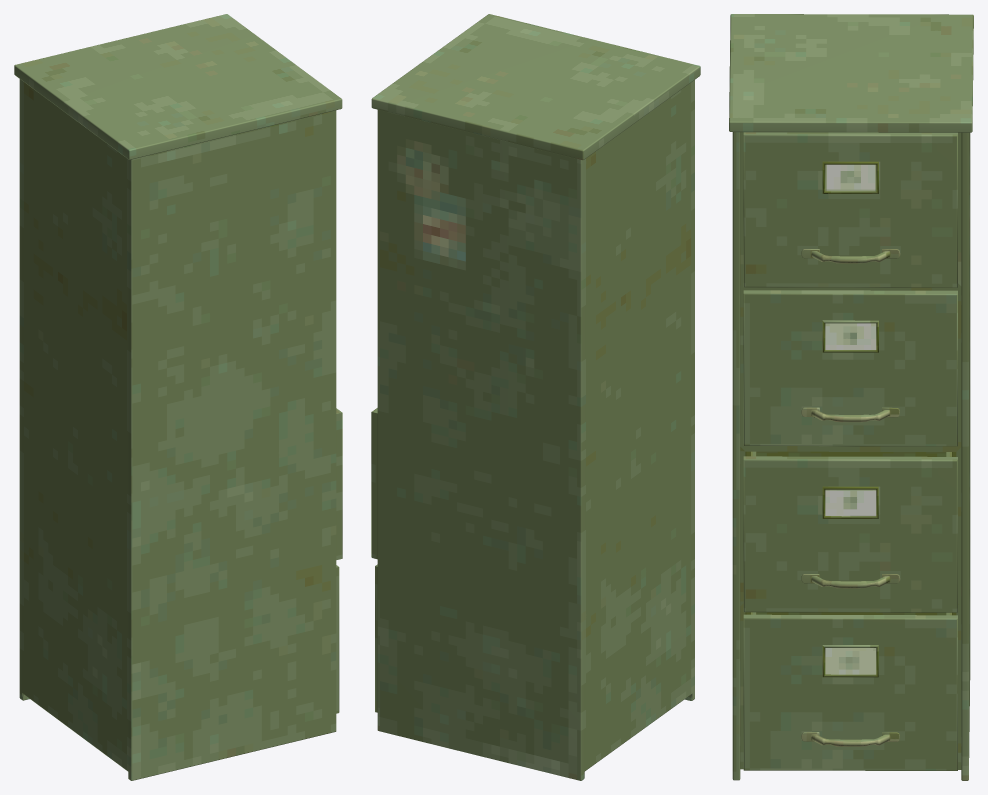
File: gabinete.glb
The picture shows the model from 3 angles, left to right: view 1: azimuth 30°, elevation 25°; view 2: azimuth 150°, elevation 25°; view 3: azimuth 270°, elevation 25°; orthographic projection. The views are drawn at different scales.
Visible parts, largest first — view 1: FileCab_01_body_FileCab_01_0, FileCab_01_B, FileCab_01_A; view 2: FileCab_01_body_FileCab_01_0, FileCab_01_B; view 3: FileCab_01_body_FileCab_01_0, FileCab_01_B, FileCab_01_A, FileCab_01_C, FileCab_01_D.
Boxes of the visible parts, x1=… form: FileCab_01_body_FileCab_01_0: x1=14, y1=14, x2=342, y2=780; FileCab_01_B: x1=336, y1=408, x2=342, y2=559; FileCab_01_A: x1=336, y1=565, x2=339, y2=713; FileCab_01_body_FileCab_01_0: x1=371, y1=14, x2=700, y2=780; FileCab_01_B: x1=371, y1=408, x2=377, y2=559; FileCab_01_body_FileCab_01_0: x1=729, y1=14, x2=973, y2=780; FileCab_01_B: x1=743, y1=451, x2=957, y2=612; FileCab_01_A: x1=743, y1=612, x2=957, y2=770; FileCab_01_C: x1=743, y1=290, x2=957, y2=446; FileCab_01_D: x1=743, y1=132, x2=957, y2=287.
Bounding box in the file's own units: 0.9254 × 2.38 × 0.7985.
Materials: 1 (1 with a texture image).
